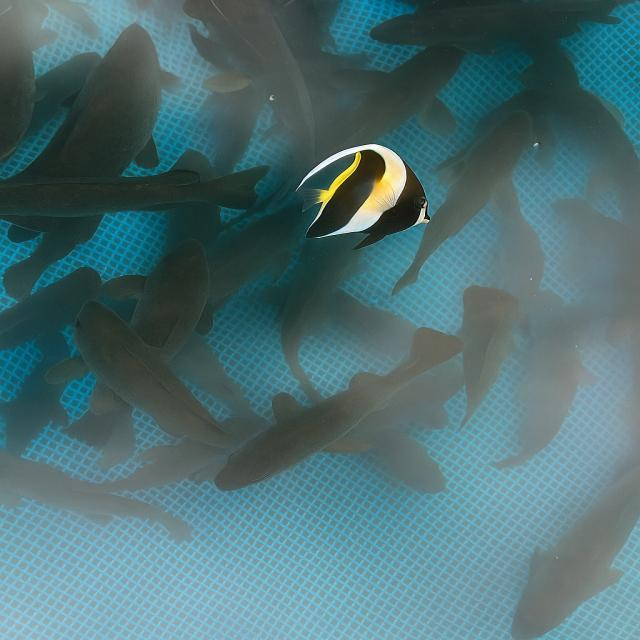ikan: (200, 325, 488, 486), (54, 21, 188, 255), (298, 129, 440, 238)
